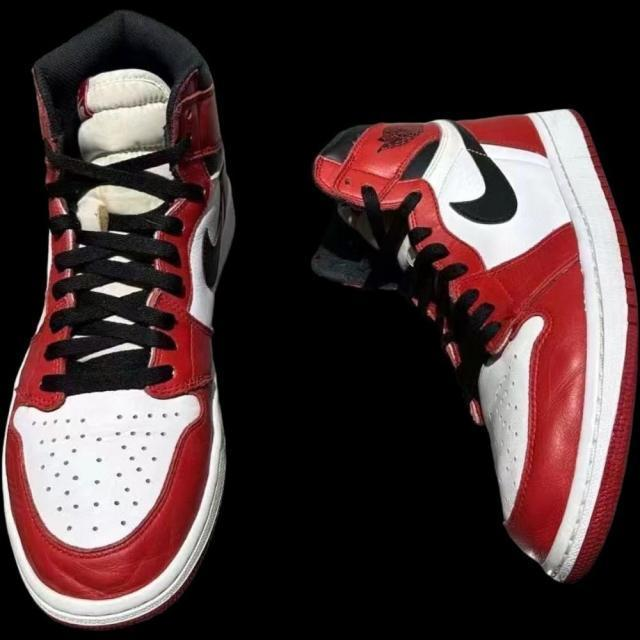nike original jordan 1: (0, 5, 275, 633), (302, 92, 635, 588)
